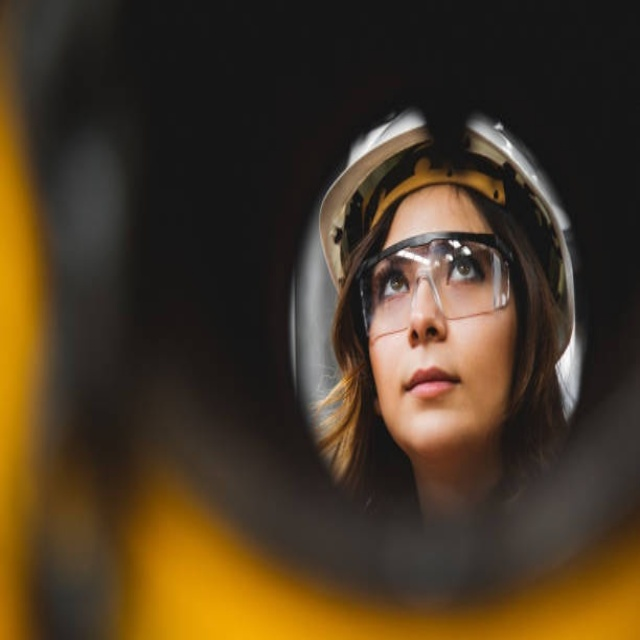Gafas: (356, 236, 514, 340)
Sin_mascara: (388, 353, 468, 430)
